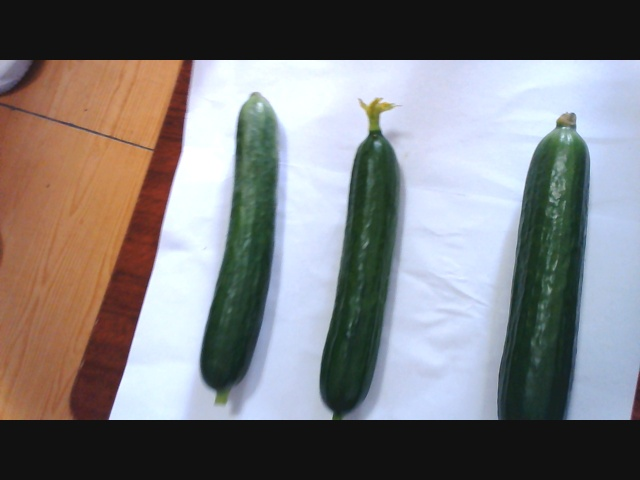cucumber: (313, 99, 420, 416), (497, 107, 599, 418), (190, 97, 282, 398)
